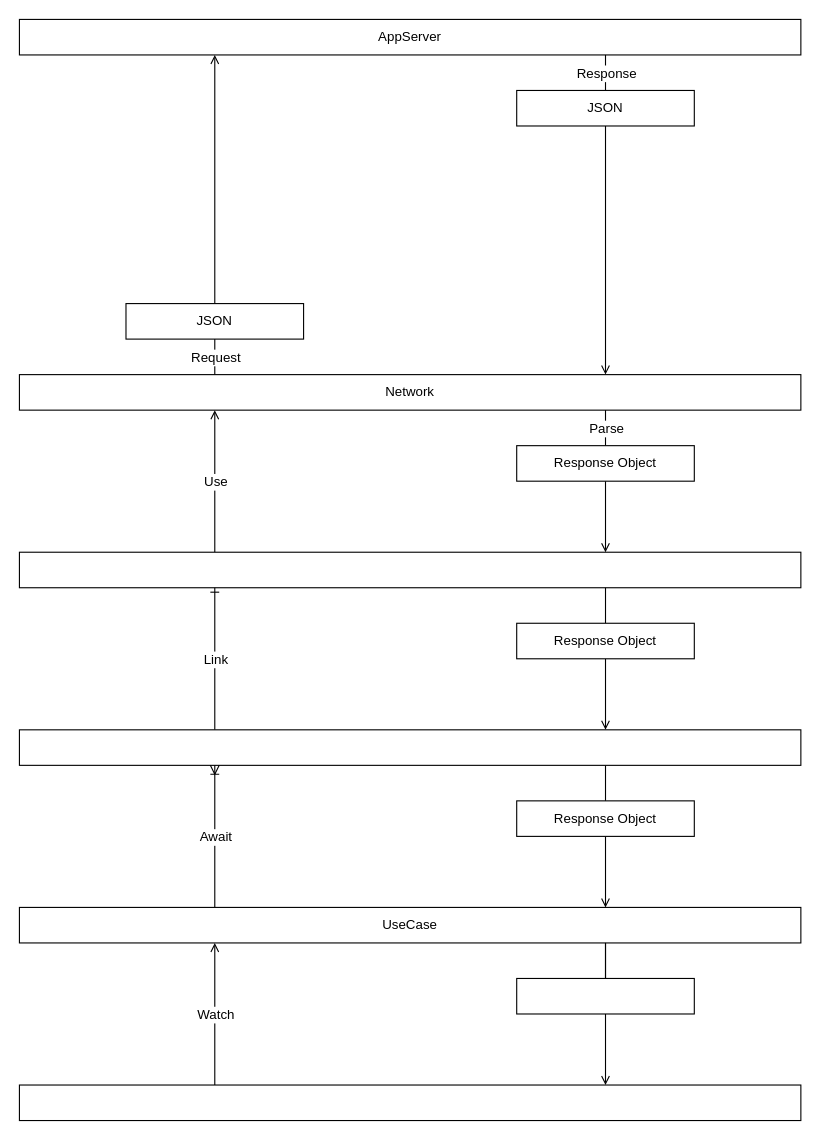
Some shapes in this 820 by 1140 pixel diagram are drawn without their labels. Each missing label, with the box of its shape:
DataSource: (18, 551, 801, 588)
Repository: (18, 729, 801, 765)
State Object: (516, 977, 694, 1014)
UI: (18, 1084, 801, 1121)
